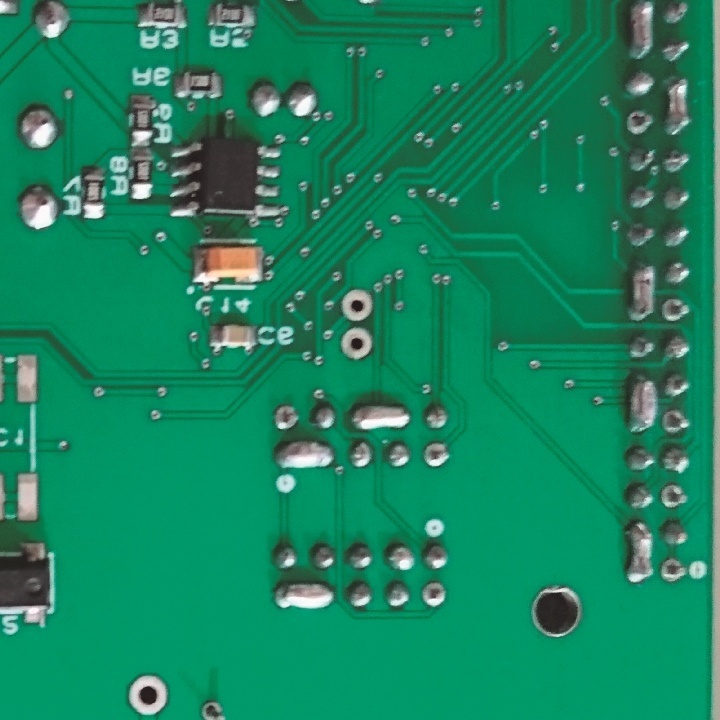F: (127, 672, 171, 720), (338, 326, 376, 363), (337, 289, 377, 323), (660, 293, 692, 325), (661, 480, 690, 509), (270, 402, 300, 430), (663, 407, 693, 435), (199, 694, 230, 720), (625, 107, 653, 134), (424, 442, 449, 471), (423, 581, 447, 611), (659, 558, 688, 581)
P: (272, 577, 336, 612), (273, 438, 336, 472), (661, 74, 693, 139), (350, 400, 413, 432), (626, 258, 657, 322), (627, 1, 659, 61), (630, 372, 658, 438), (626, 520, 654, 586)
